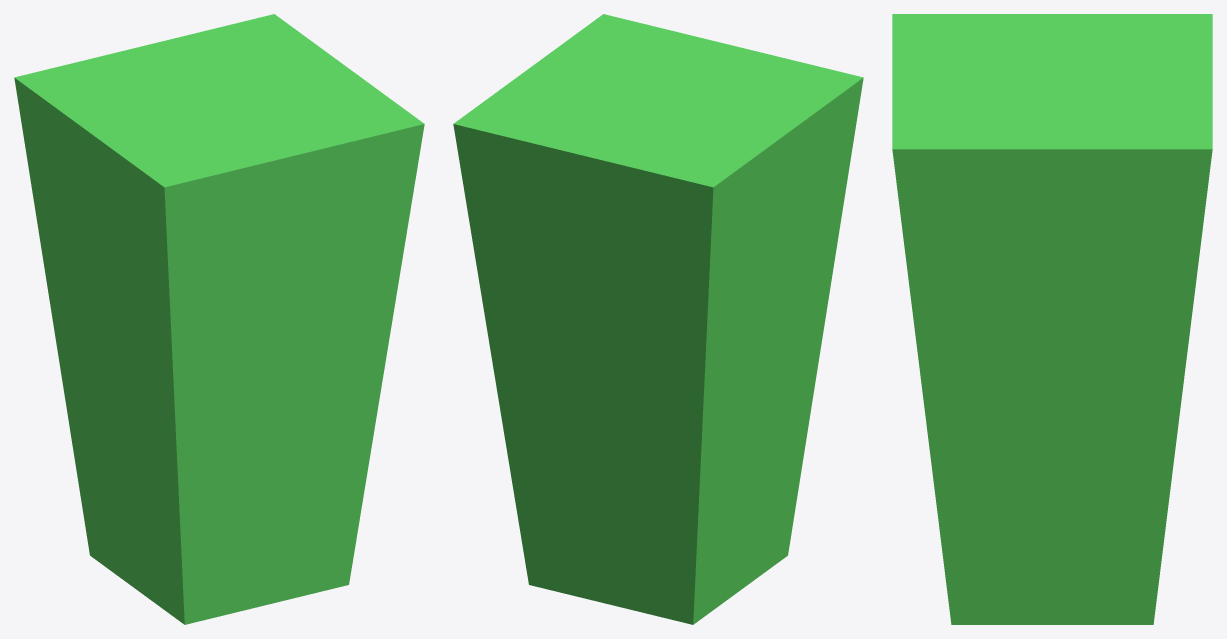
The model's file is willowSeed_low.glb.
The picture shows the model from 3 angles, left to right: view 1: azimuth 30°, elevation 25°; view 2: azimuth 150°, elevation 25°; view 3: azimuth 270°, elevation 25°; orthographic projection. The views are drawn at different scales.
Visible parts, largest first — view 1: Cube.001; view 2: Cube.001; view 3: Cube.001.
Boxes of the visible parts, x1,y1,x2,y2 form: Cube.001: (14,14,424,624); Cube.001: (453,14,863,624); Cube.001: (892,14,1212,624).
Size of the model in its own units: 0.0898 by 0.1549 by 0.0898.
